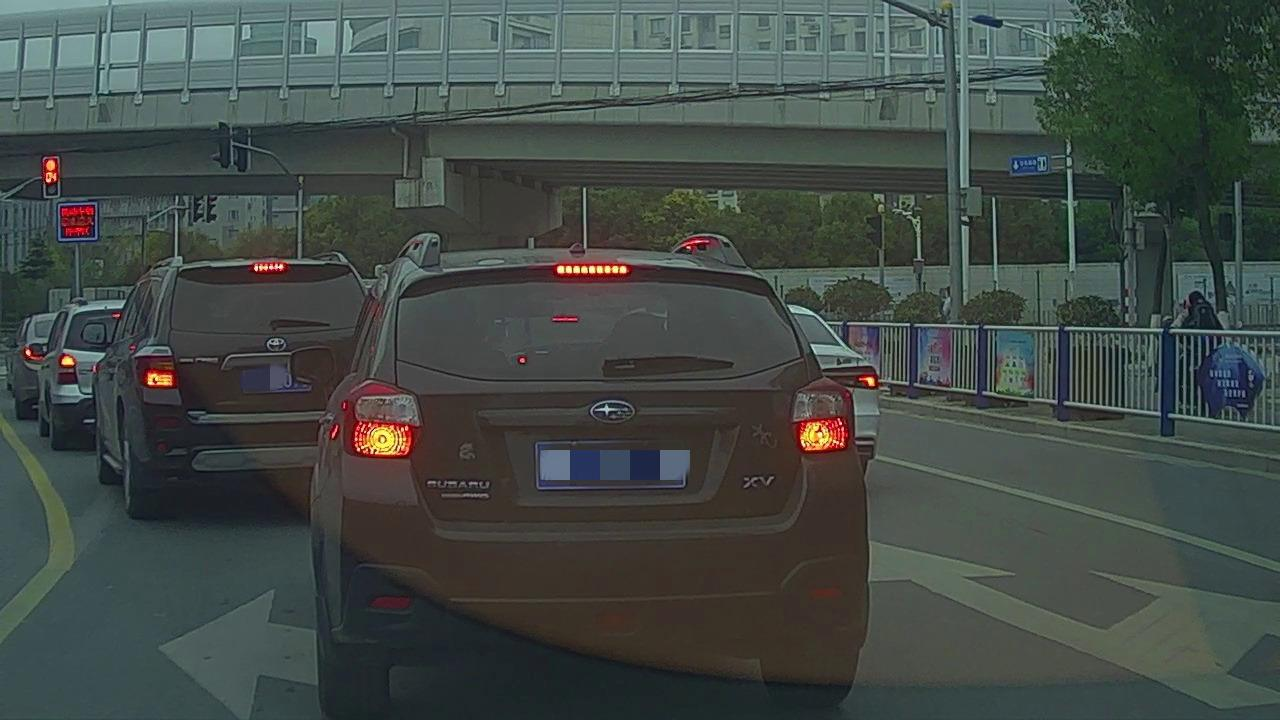traffic_light: (44, 160, 58, 197)
